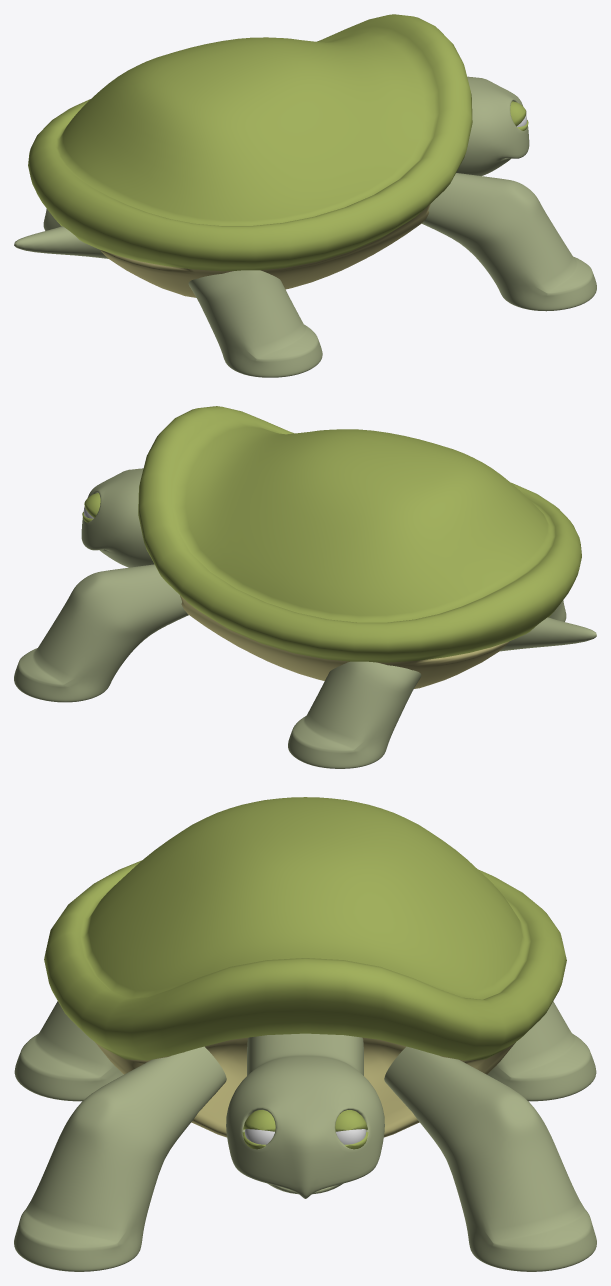
Rendered from Teeter_01_Sk.fbx.
The picture shows the model from 3 angles, top to bottom: view 1: azimuth 30°, elevation 25°; view 2: azimuth 150°, elevation 25°; view 3: azimuth 270°, elevation 25°; orthographic projection. The views are drawn at different scales.
Visible parts, largest first — view 1: EyeLUpper2; view 2: EyeLUpper2; view 3: EyeLUpper2.
Part boxes in pixels (left/top/right/bottom): EyeLUpper2: left=14, top=14, right=596, bottom=377; EyeLUpper2: left=14, top=406, right=596, bottom=768; EyeLUpper2: left=14, top=797, right=596, bottom=1271.
Size of the model in its own units: 398 by 309 by 165.
